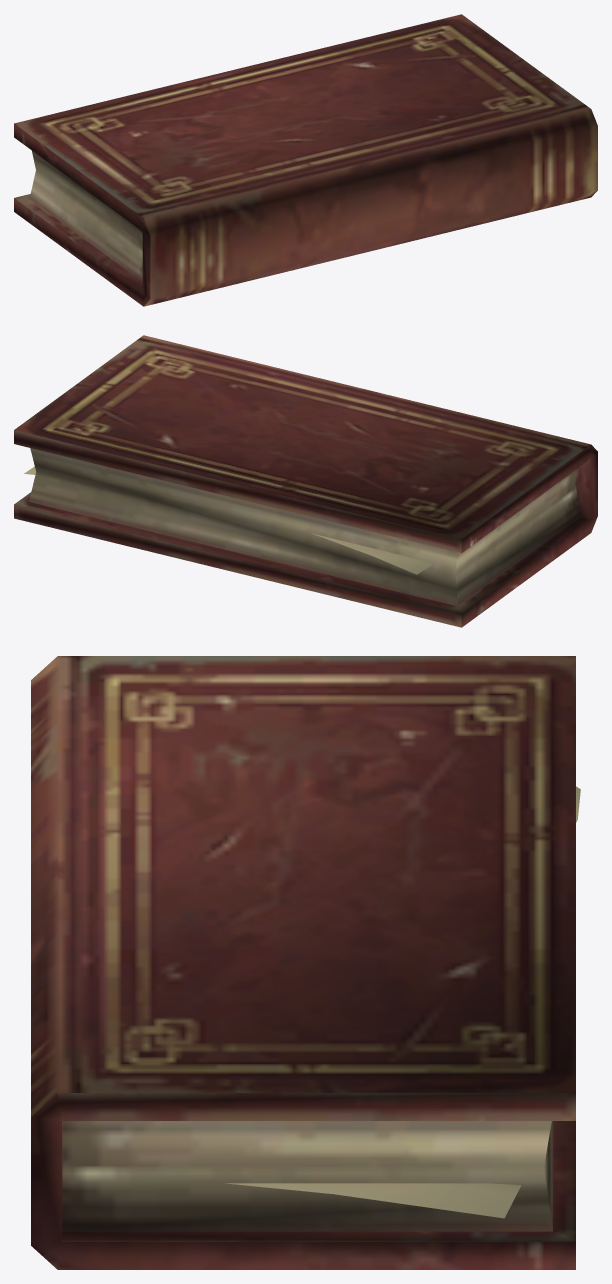
Rendered from generalbook01.obj.
The picture shows the model from 3 angles, top to bottom: view 1: azimuth 30°, elevation 25°; view 2: azimuth 150°, elevation 25°; view 3: azimuth 270°, elevation 25°; orthographic projection. The views are drawn at different scales.
Parts seen in each view (by area): view 1: generalbook01.m2; view 2: generalbook01.m2; view 3: generalbook01.m2.
Boxes of the visible parts, x1=… form: generalbook01.m2: x1=14, y1=14, x2=597, y2=306; generalbook01.m2: x1=14, y1=335, x2=597, y2=627; generalbook01.m2: x1=31, y1=656, x2=580, y2=1269.
Size of the model in its own units: 0.7288 by 0.135 by 0.3806.
Materials: 1 (1 with a texture image).
